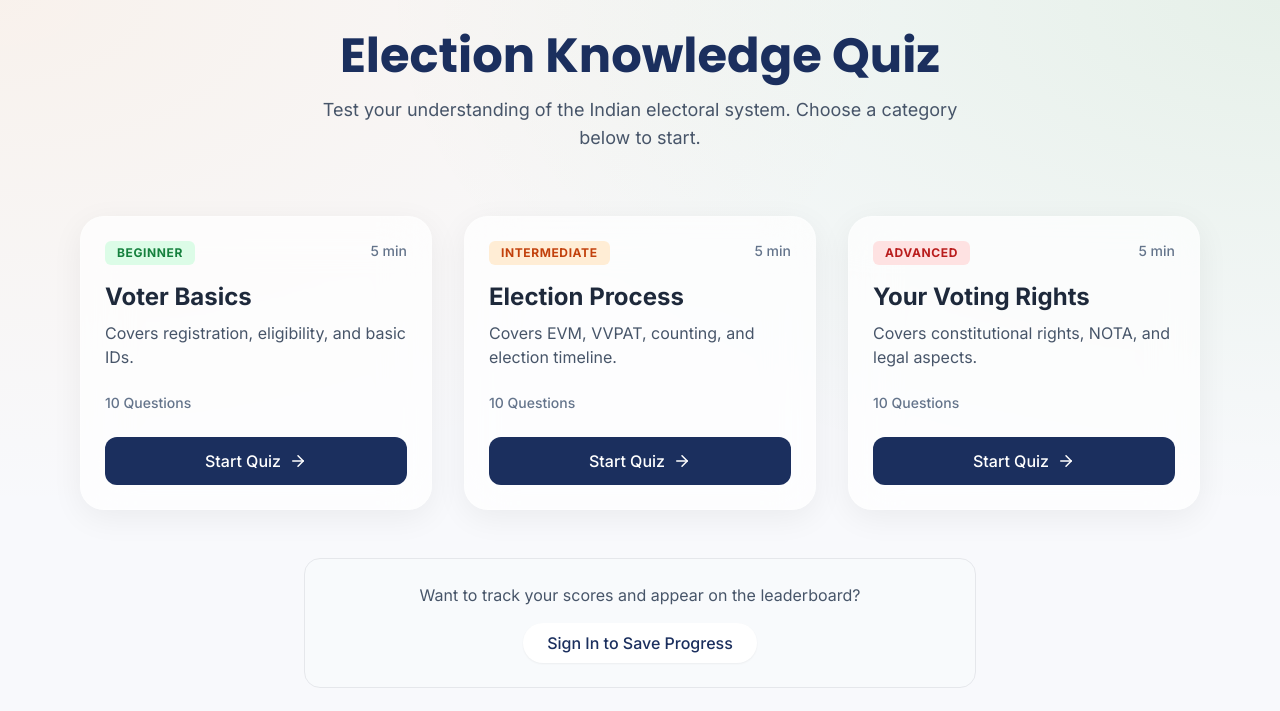
Scenario: Quiz Page › Answer Selection › should show explanation after selecting an answer
What coordinates should you click on to do the following:
click the button "Start Quiz" below "Voter Basics"
I would click on:
 (256, 461)
Its box is [105, 437, 407, 485].
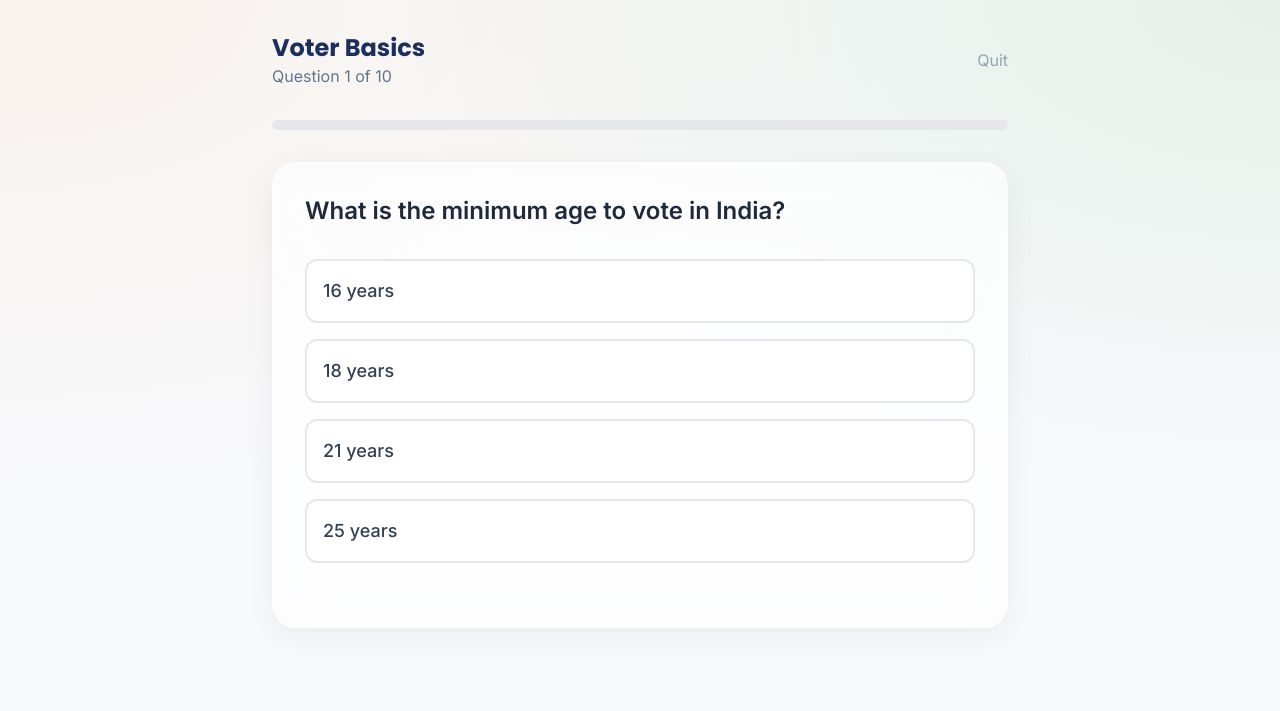
Expected: the text "18 years" is shown, [323, 357, 394, 385]
What coordinates should you click on to do the following:
click the button "18 years"
I would click on:
 (359, 370)
Its box is [305, 339, 975, 403].
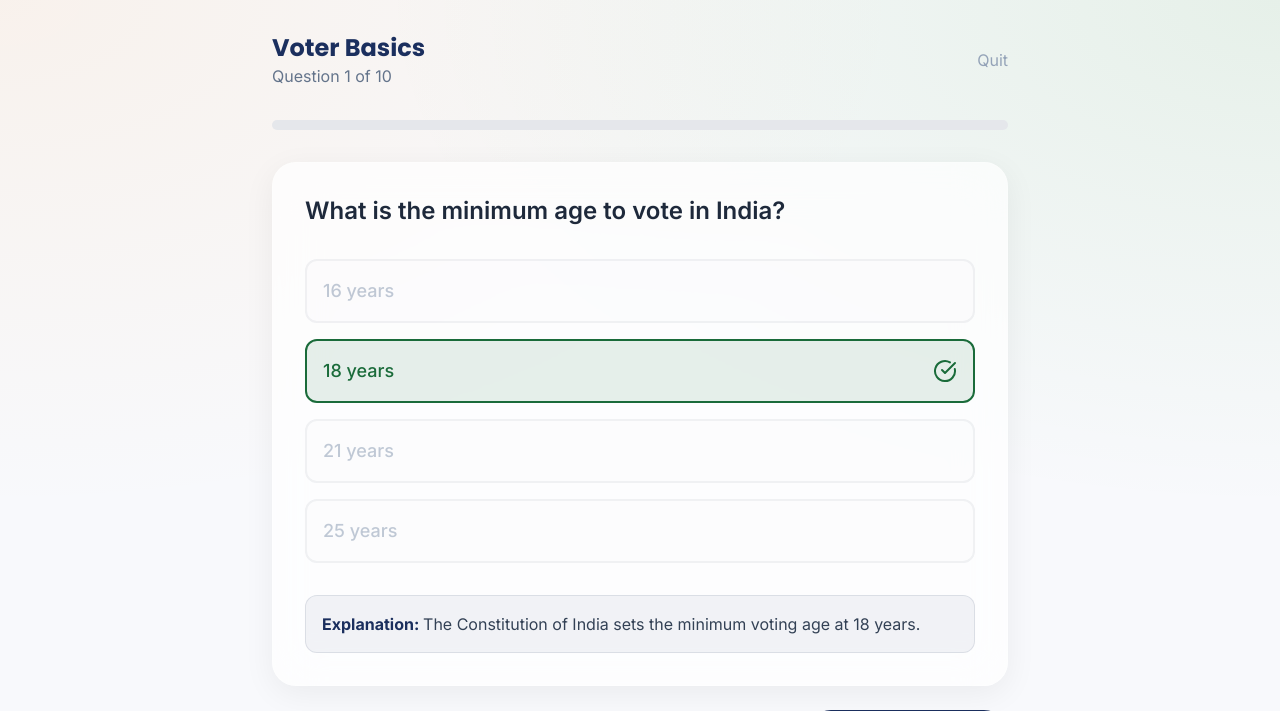
Expected: the text "Explanation:" is shown, [322, 614, 423, 634]
